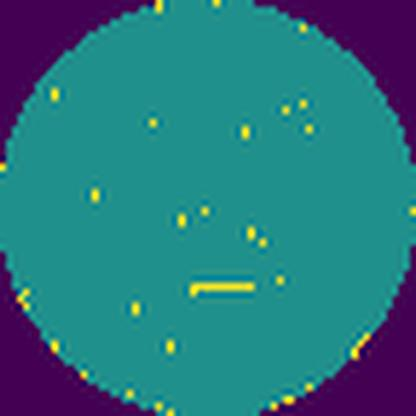Scratch: (185, 277, 257, 302)
